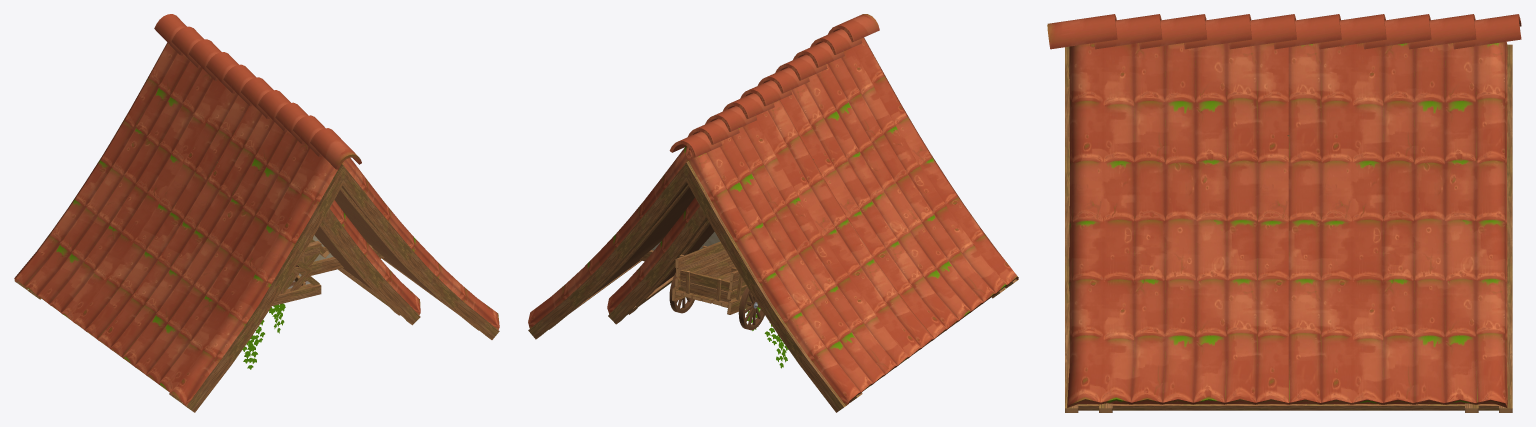
Rendered from village-kit.glb.
3 views of the same model, side by side, from view 1: azimuth 30°, elevation 25°; view 2: azimuth 150°, elevation 25°; view 3: azimuth 270°, elevation 25° (orthographic). The views are drawn at different scales.
Visible parts, largest first — view 1: Roof_RoundTiles_6x6, Roof_RoundTiles_4x4, Balcony_Cross_Straight, Prop_Vine1, Roof_Front_Brick6, Roof_Front_Brick4; view 2: Roof_RoundTiles_6x6, Prop_Wagon, Roof_RoundTiles_4x4; view 3: Roof_RoundTiles_6x6.
Boxes of the visible parts, x1,y1,x2,y2 form: Roof_RoundTiles_6x6: [14, 14, 499, 412]; Roof_RoundTiles_4x4: [314, 200, 420, 325]; Balcony_Cross_Straight: [272, 241, 321, 305]; Prop_Vine1: [242, 303, 285, 369]; Roof_Front_Brick6: [294, 235, 384, 275]; Roof_Front_Brick4: [294, 236, 343, 275]; Roof_RoundTiles_6x6: [528, 14, 1018, 412]; Prop_Wagon: [669, 241, 764, 330]; Roof_RoundTiles_4x4: [607, 197, 714, 324]; Roof_RoundTiles_6x6: [1047, 14, 1521, 412].
Size of the model in its own units: 8.25 by 7.01 by 8.03.
7 materials, 6 textured.
